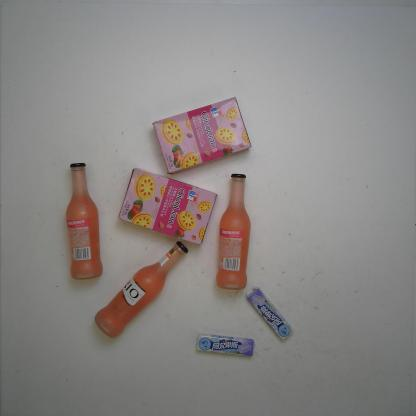Alcohol: (93, 240, 188, 339), (64, 162, 104, 280), (215, 173, 251, 291)
Candy: (244, 286, 292, 342), (195, 333, 257, 357)
Dessert: (150, 95, 254, 176), (116, 166, 218, 244)
